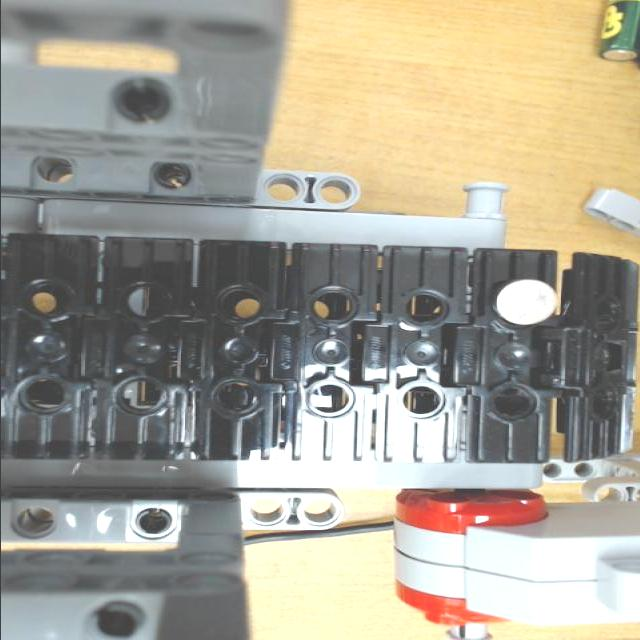COIN: (496, 276, 556, 326)
